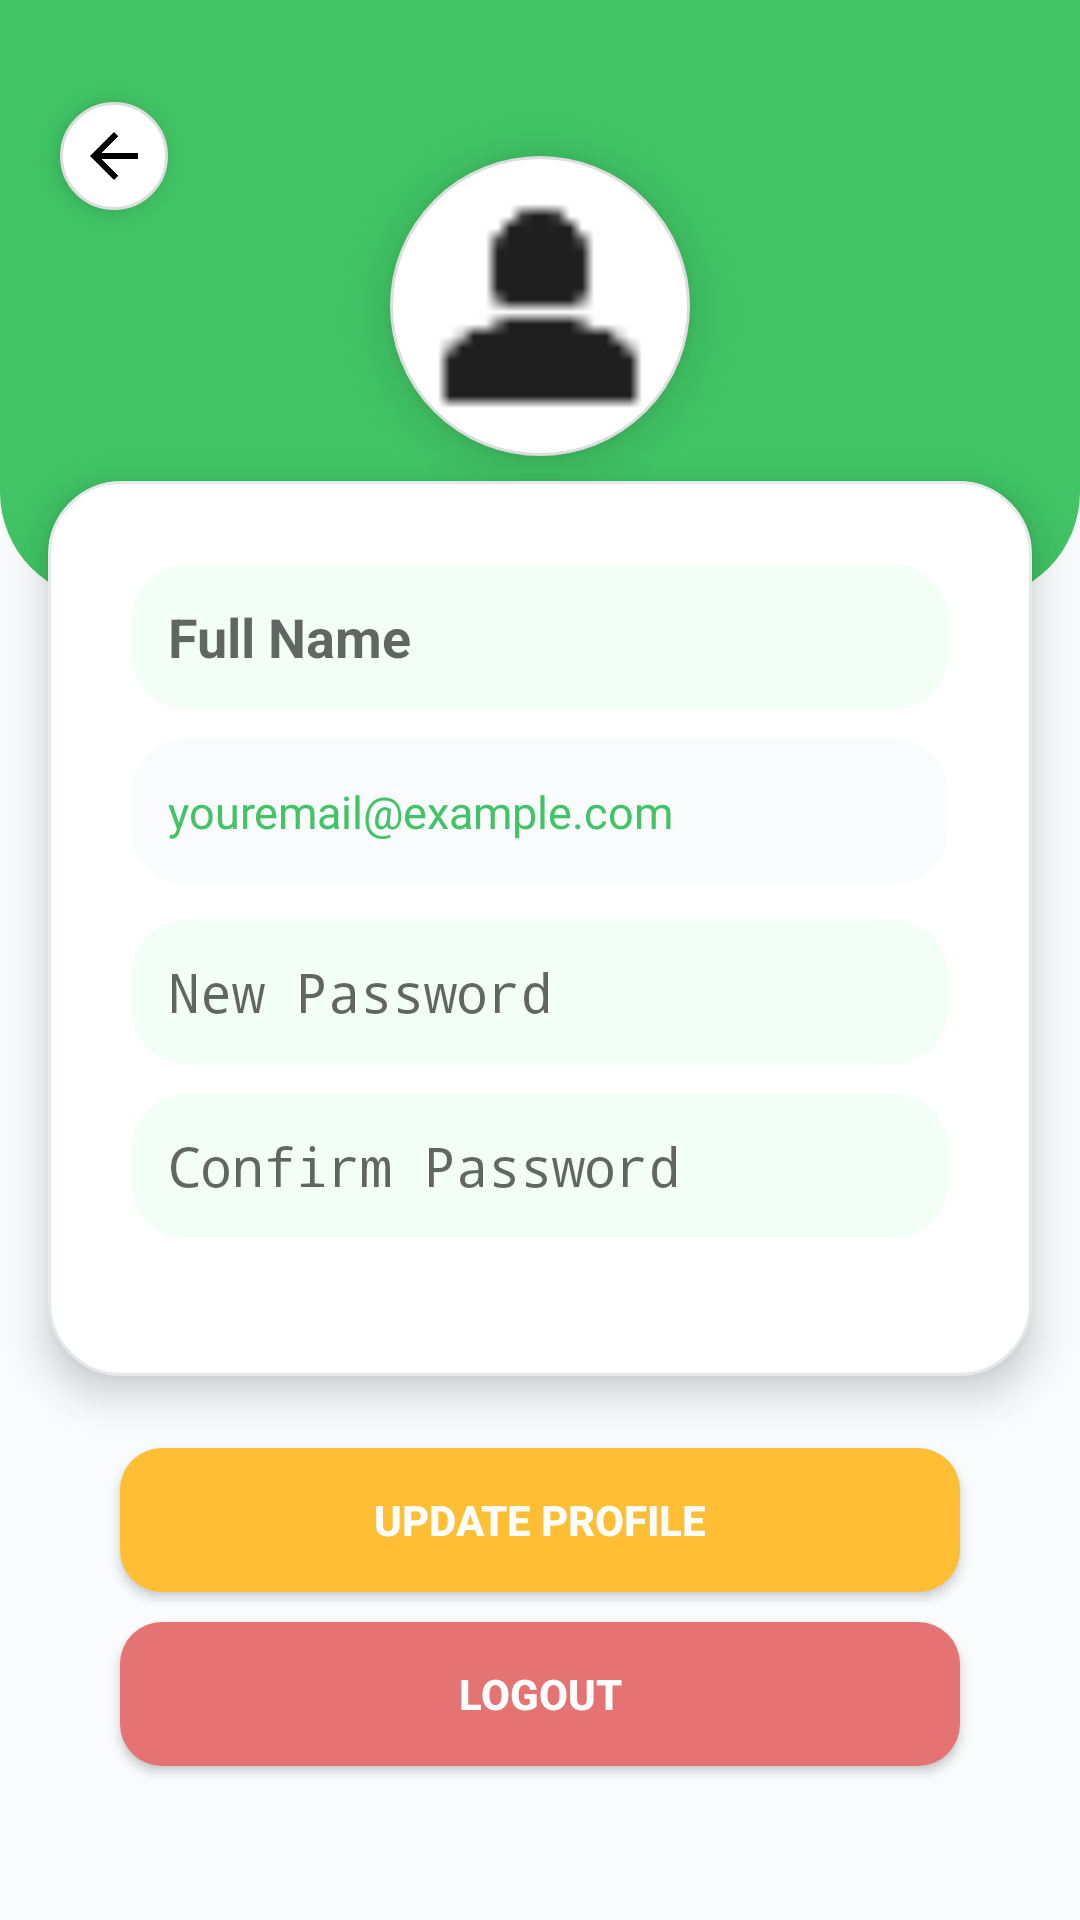

Named icons in this screenshot (1080px×1920px) and their centers, [x,y]:
back: [114,156]
user: [540,306]
